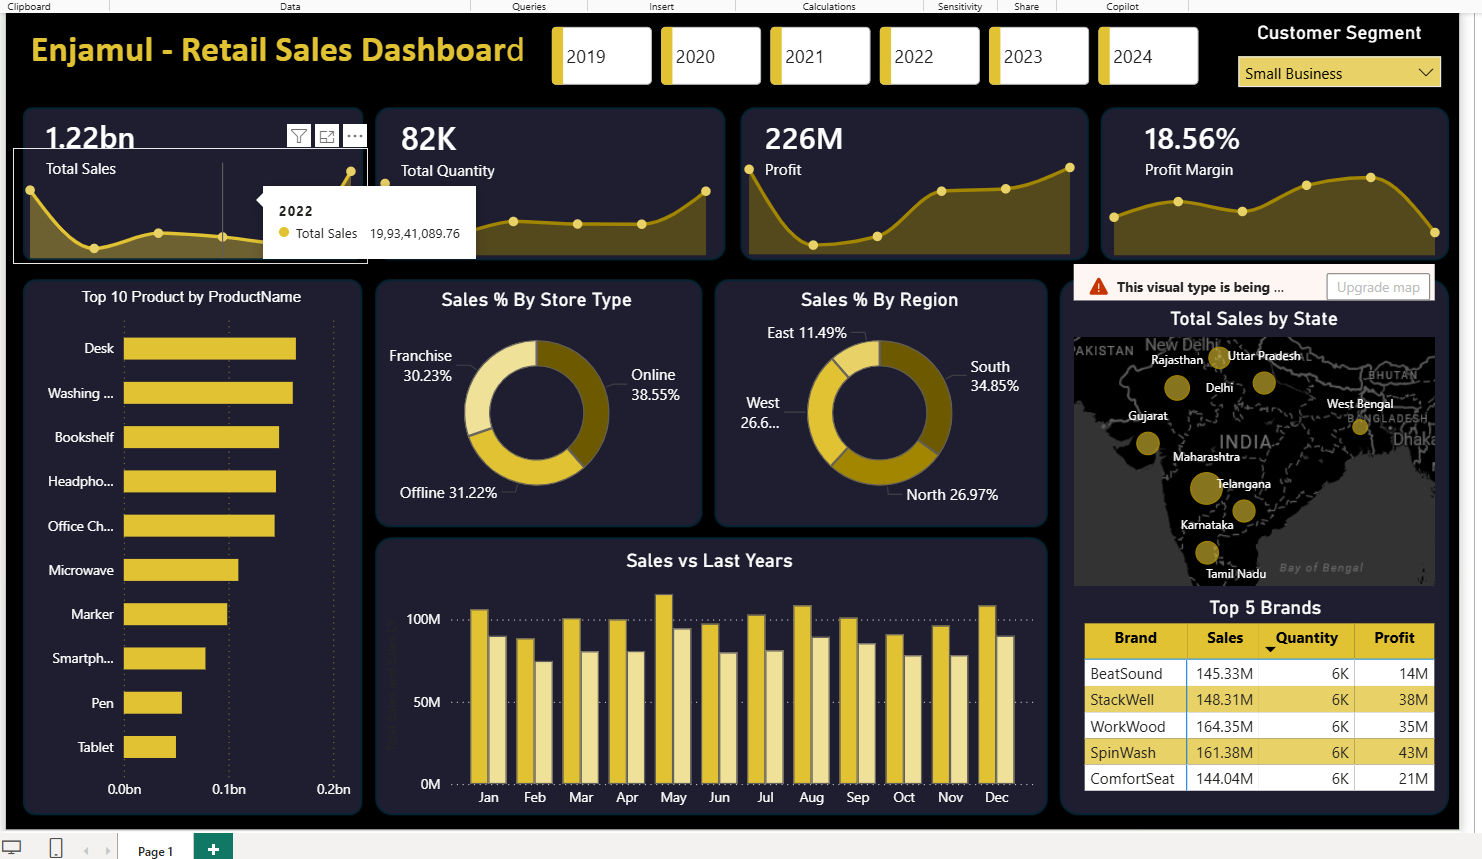

What the dashboard file says about the page in this screenshot:
{"tool":"powerbi","page":{"name":"Page 1","canvas":[1280,720],"ordinal":0},"visuals":[{"type":"textbox","box":[19.3,7,448.7,61.5],"z":0},{"type":"cardVisual","fields":{"Data":["1_Measures.Total Quantity"]},"box":[320.5,69.4,181.8,97.5],"z":1000},{"type":"cardVisual","fields":{"Data":["1_Measures.Total Sales"]},"box":[8.8,68.5,181.8,97.5],"z":2000},{"type":"cardVisual","fields":{"Data":["1_Measures.Profit"]},"box":[640,68.7,181.5,98.1],"z":3000},{"type":"cardVisual","fields":{"Data":["1_Measures.Profit Margin"]},"box":[973.5,68.7,181.5,98.1],"z":4000},{"type":"areaChart","fields":{"Y":["1_Measures.Total Sales"],"Category":["Calendar Table.Year"]},"box":[8.8,118.5,311.7,101.9],"z":5000},{"type":"areaChart","fields":{"Category":["Calendar Table.Year"],"Y":["1_Measures.Total Quantity"]},"box":[320.5,115.9,311.7,101.9],"z":6000},{"type":"areaChart","fields":{"Category":["Calendar Table.Year"],"Y":["1_Measures.Profit"]},"box":[640.1,115,311.7,101.9],"z":7000},{"type":"areaChart","fields":{"Category":["Calendar Table.Year"],"Y":["1_Measures.Profit Margin"]},"box":[960.6,115.9,311.7,101.9],"z":8000},{"type":"barChart","title":"Top 10 Product by ProductName","fields":{"Y":["1_Measures.Total Sales"],"Category":["Dim_Product.ProductName"]},"box":[21.4,241.2,288.9,458.1],"z":9000},{"type":"donutChart","title":"Sales % By Store Type","fields":{"Y":["1_Measures.Total Sales"],"Category":["Dim_Store.StoreType"]},"box":[330.7,241.2,275.3,200.4],"z":10000},{"type":"donutChart","title":"Sales % By Region","fields":{"Y":["1_Measures.Total Sales"],"Category":["Dim_Customer.Region"]},"box":[632.2,241.2,275.3,200.4],"z":11000},{"type":"clusteredColumnChart","title":"Sales vs Last Years","fields":{"Y":["1_Measures.Total Sales","1_Measures.Sales LY"],"Category":["Calendar Table.Month Name"]},"box":[330.7,470.8,578.7,236.4],"z":12000},{"type":"map","fields":{"Category":["Dim_Store.State"],"Size":["1_Measures.Total Sales"]},"box":[934.7,220.8,326.8,282.1],"z":13000},{"type":"pivotTable","title":"Top 5 Brands","fields":{"Rows":["Dim_Product.Brand"],"Values":["1_Measures.Total Sales","1_Measures.Total Quantity","1_Measures.Profit"]},"box":[944.8,511.9,327.5,181.8],"z":14000},{"type":"advancedSlicerVisual","fields":{"Values":["Calendar Table.Year"]},"box":[476.8,7,580.4,61.5],"z":15000},{"type":"slicer","title":"Customer Segment","fields":{"Values":["Dim_Customer.Segment"]},"box":[1074.7,7,197.6,61.5],"z":16000}]}

Visuals, with their boxes on the page's 1280x720 design canvas (x1, y1, x2, y2). These are canvas units, not pixel positions in the 1482x859 screenshot, which may show the page scaled, cropped or inside an application window:
textbox: 19 7 468 68
cardVisual - 1_Measures.Total Quantity: 320 69 502 167
cardVisual - 1_Measures.Total Sales: 9 68 191 166
cardVisual - 1_Measures.Profit: 640 69 822 167
cardVisual - 1_Measures.Profit Margin: 974 69 1155 167
areaChart - 1_Measures.Total Sales x Calendar Table.Year: 9 118 320 220
areaChart - Calendar Table.Year x 1_Measures.Total Quantity: 320 116 632 218
areaChart - Calendar Table.Year x 1_Measures.Profit: 640 115 952 217
areaChart - Calendar Table.Year x 1_Measures.Profit Margin: 961 116 1272 218
"Top 10 Product by ProductName" barChart: 21 241 310 699
"Sales % By Store Type" donutChart: 331 241 606 442
"Sales % By Region" donutChart: 632 241 908 442
"Sales vs Last Years" clusteredColumnChart: 331 471 909 707
map - Dim_Store.State x 1_Measures.Total Sales: 935 221 1262 503
"Top 5 Brands" pivotTable: 945 512 1272 694
advancedSlicerVisual - Calendar Table.Year: 477 7 1057 68
"Customer Segment" slicer: 1075 7 1272 68
